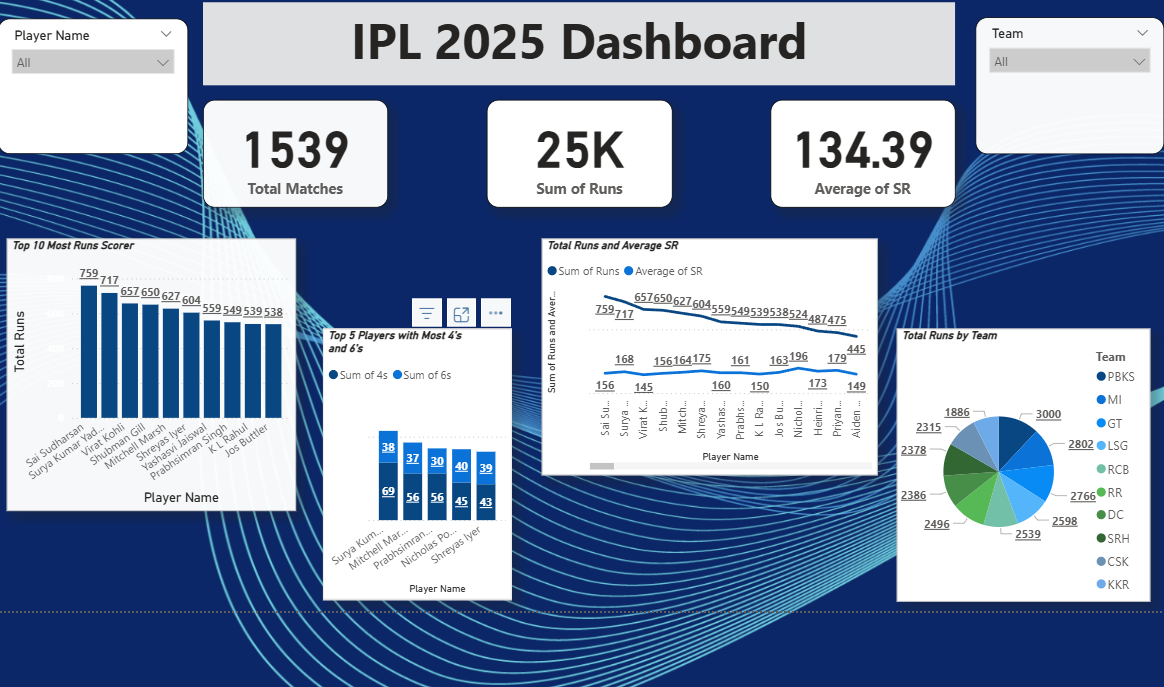

This screenshot's page, from the dashboard's own definition file:
{"tool":"powerbi","page":{"name":"Page 1","canvas":[1280,720],"ordinal":0},"visuals":[{"type":"card","fields":{"Values":["IPL2025Batters.Runs"]},"box":[537.1,157.1,204.3,118.6],"z":0},{"type":"card","fields":{"Values":["IPL2025Batters.Matches"]},"box":[225.7,157.1,202.9,118.6],"z":1000},{"type":"card","fields":{"Values":["IPL2025Batters.SR"]},"box":[848.6,157.1,202.9,118.6],"z":2000},{"type":"textbox","box":[225.7,51.4,825.7,91.4],"z":2001},{"type":"clusteredColumnChart","title":"Top 10 Most Runs Scorer","fields":{"Category":["IPL2025Batters.Player Name"],"Y":["IPL2025Batters.Runs"]},"box":[10,310,317.3,299.1],"z":2002},{"type":"lineChart","title":"Total Runs and Average SR","fields":{"Y":["IPL2025Batters.Runs","IPL2025Batters.SR"],"Category":["IPL2025Batters.Player Name"]},"box":[596.2,310,368.8,260],"z":2003},{"type":"pieChart","title":"Total Runs by Team","fields":{"Category":["IPL2025Batters.Team"],"Y":["IPL2025Batters.Runs"]},"box":[987.1,408.6,278.6,300],"z":2004},{"type":"columnChart","title":"Top 5 Players with Most 4''s and 6''s","fields":{"Category":["IPL2025Batters.Player Name"],"Y":["IPL2025Batters.4s","IPL2025Batters.6s"]},"box":[357.1,408.6,207.1,298.6],"z":2005},{"type":"slicer","fields":{"Values":["IPL2025Batters.Team"]},"box":[1072.9,67.1,207.1,150],"z":2006},{"type":"slicer","fields":{"Values":["IPL2025Batters.Player Name"]},"box":[0,68.6,208.6,148.6],"z":2007}]}

Visuals, with their boxes in screenshot pixels (x1, y1, x2, y2):
card - IPL2025Batters.Runs: left=482, top=98, right=665, bottom=205
card - IPL2025Batters.Matches: left=202, top=98, right=384, bottom=205
card - IPL2025Batters.SR: left=761, top=98, right=943, bottom=205
textbox: left=202, top=4, right=943, bottom=86
"Top 10 Most Runs Scorer" clusteredColumnChart: left=9, top=236, right=294, bottom=504
"Total Runs and Average SR" lineChart: left=535, top=236, right=865, bottom=469
"Total Runs by Team" pieChart: left=885, top=324, right=1135, bottom=593
"Top 5 Players with Most 4''s and 6''s" columnChart: left=320, top=324, right=506, bottom=592
slicer - IPL2025Batters.Team: left=962, top=18, right=1148, bottom=152
slicer - IPL2025Batters.Player Name: left=0, top=19, right=187, bottom=152
